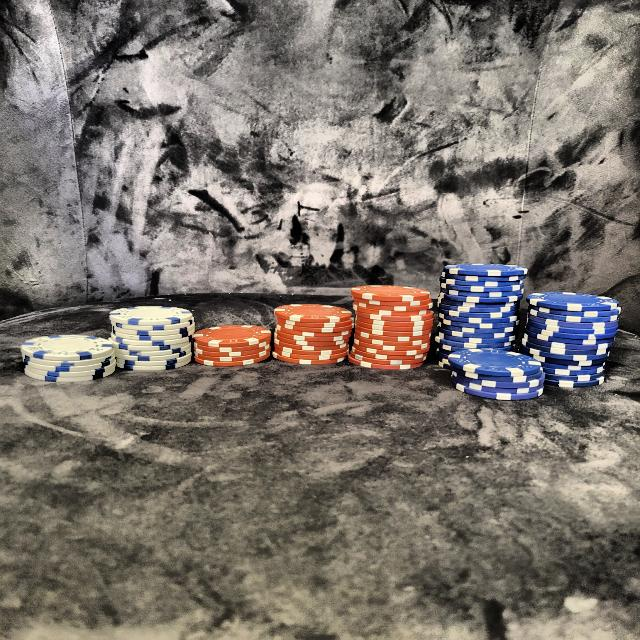Chip: (522, 276, 624, 398), (436, 260, 522, 371), (273, 286, 366, 371), (349, 279, 436, 367), (104, 301, 200, 376), (450, 341, 547, 407), (17, 327, 120, 386), (188, 320, 276, 371)
